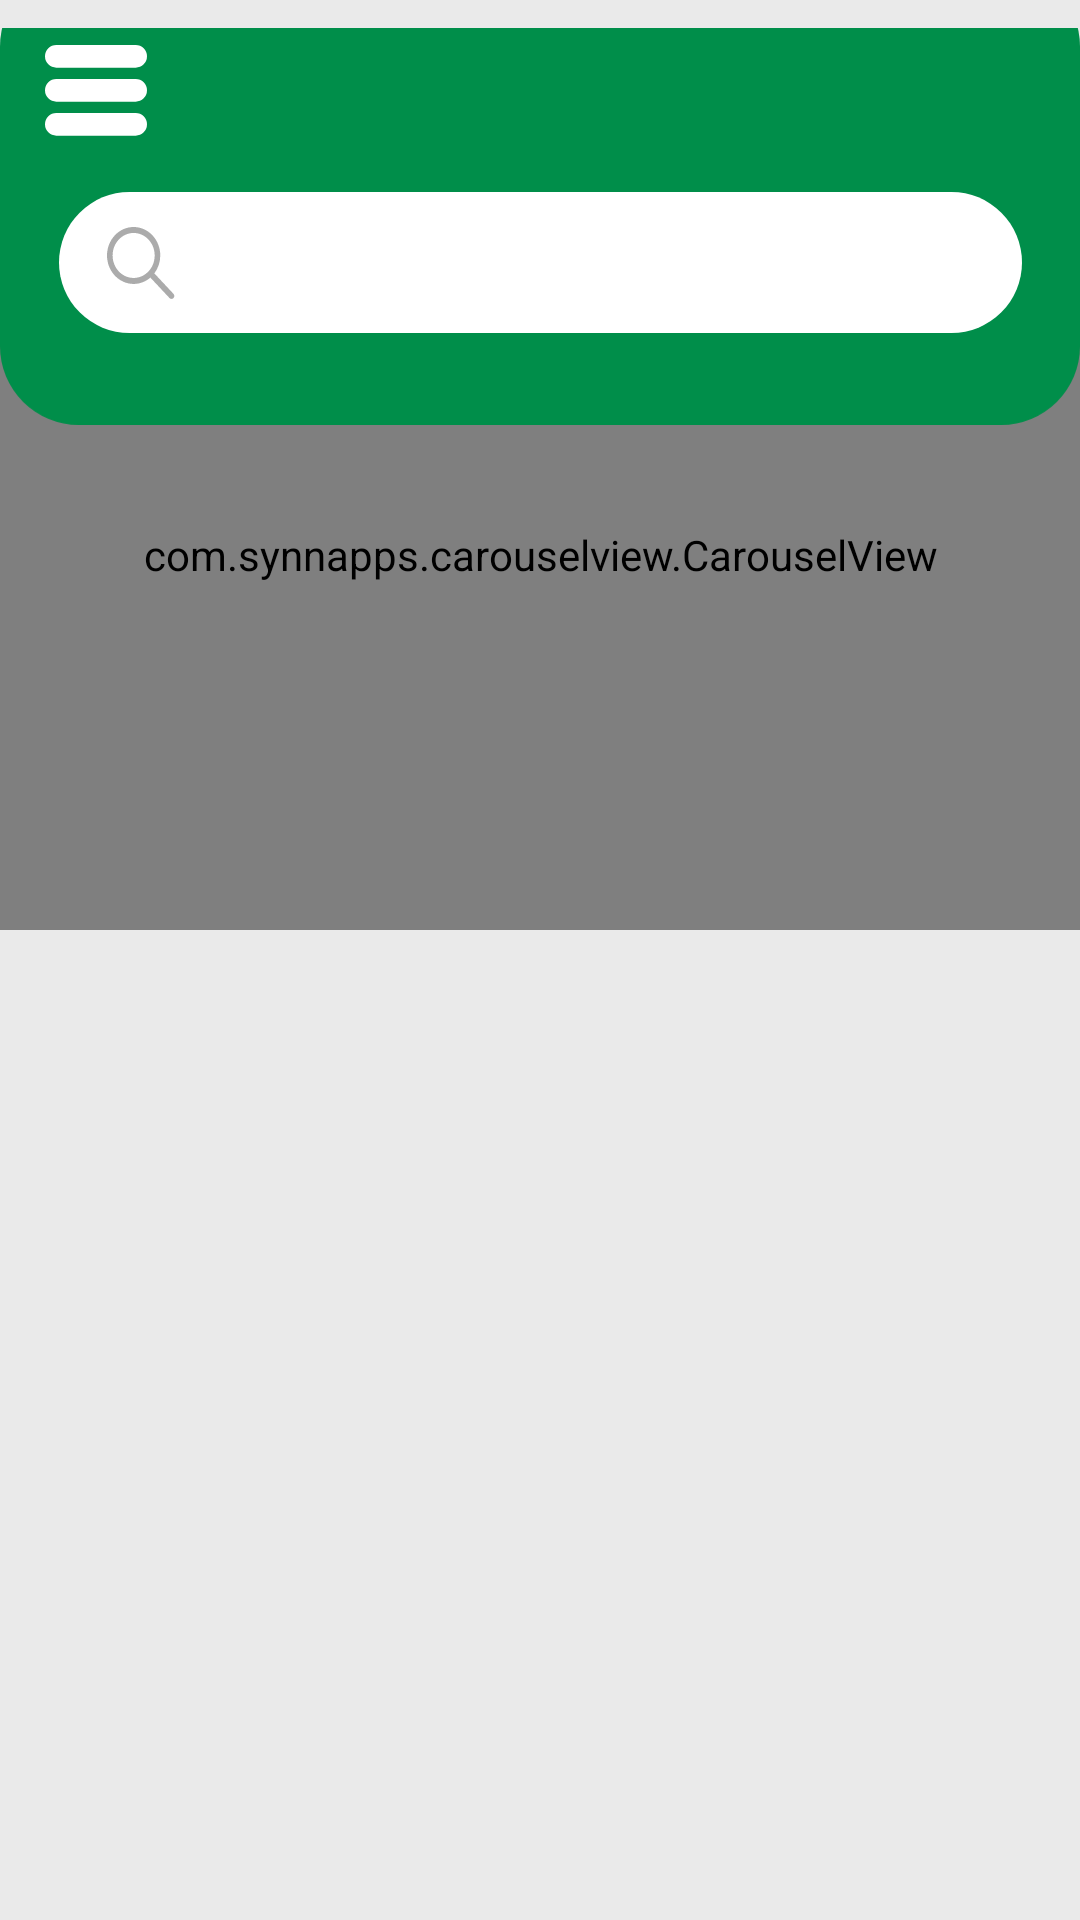

Where icons sit on this 1080 x 1920 app screen, as (x1, y1, x2, y2):
hamburger: (45, 45, 147, 136)
search symbol: (107, 227, 174, 299)
